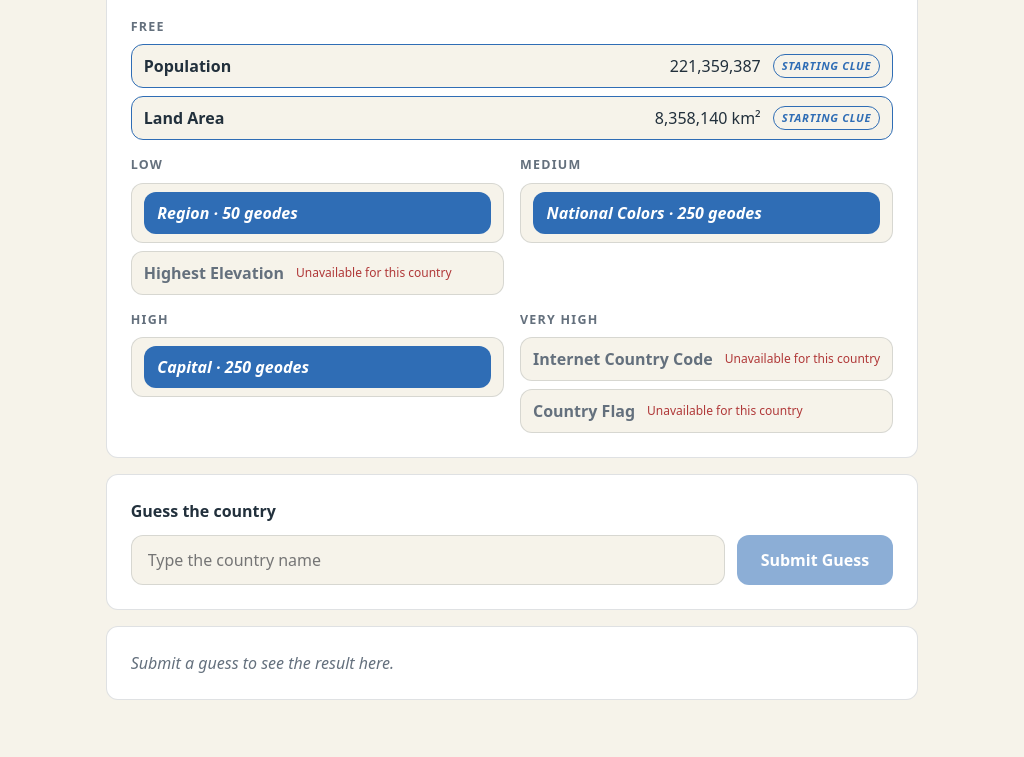
GameScreen › shows the rounded match percentage for an accepted near-match
(page scrolled)
Type "Brasil" into the field labelled "Guess the country".
click(428, 560); type("Brasil")  # box x1=131 y1=535 x2=725 y2=585
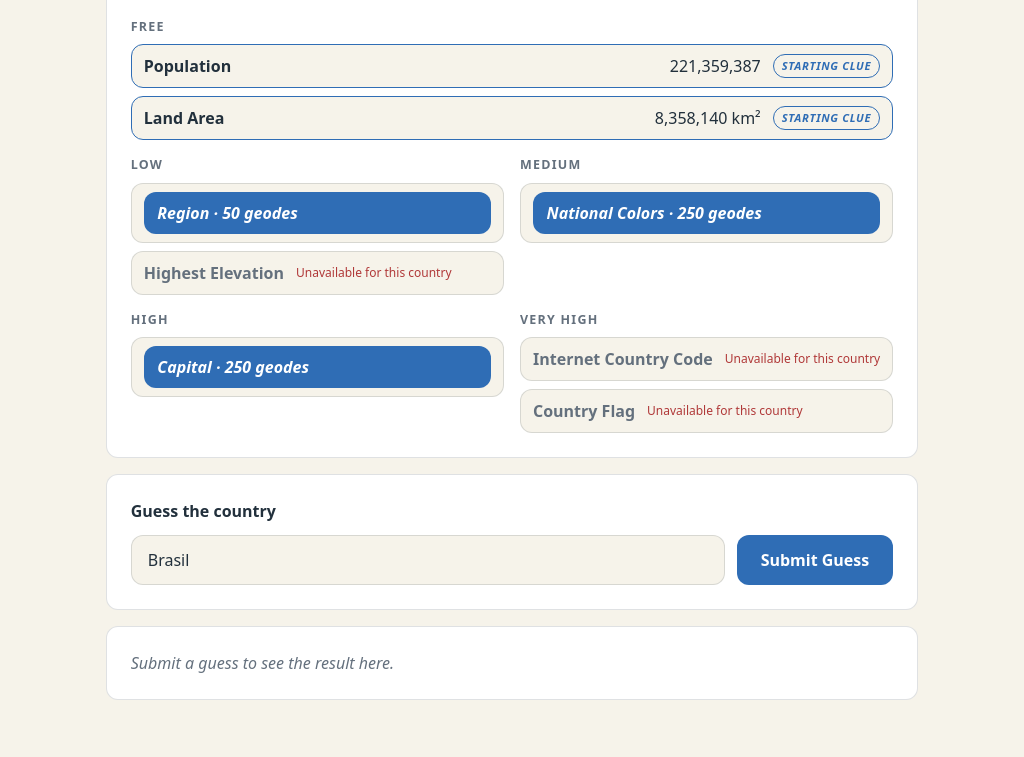
Click the button "Submit Guess".
click(815, 560)  # box x1=737 y1=535 x2=893 y2=585
(page scrolled)
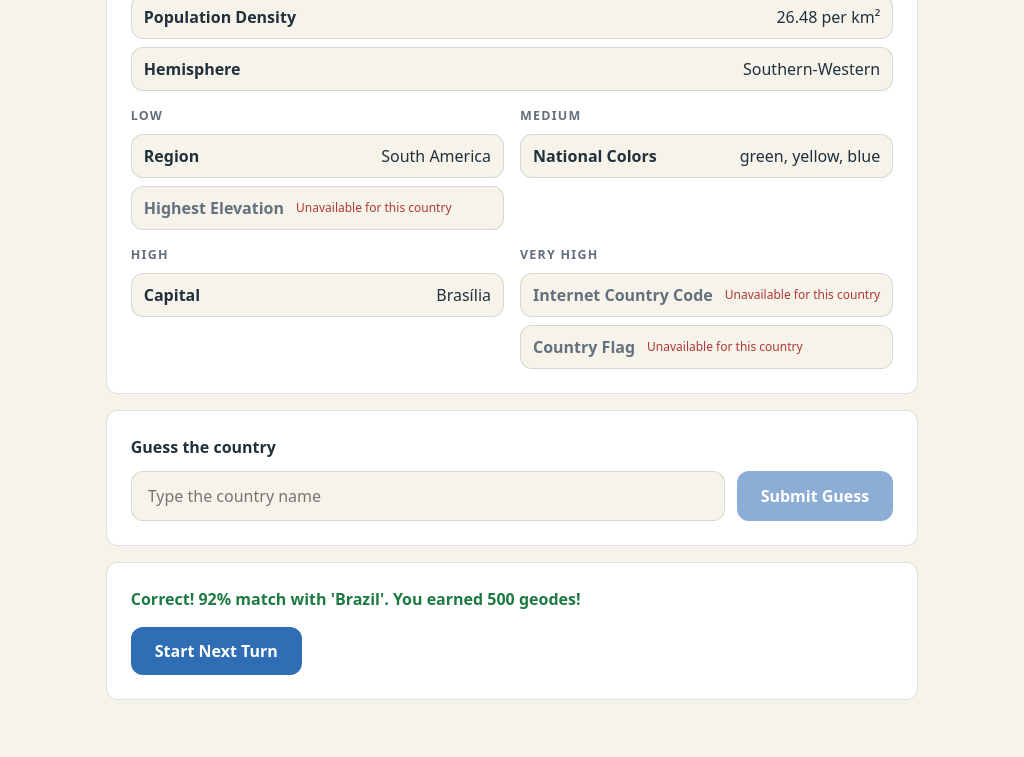
Result: the text "Correct! 92% match with 'Brazil'. You earned 500 geodes!" is shown at x1=131 y1=588 x2=580 y2=610
